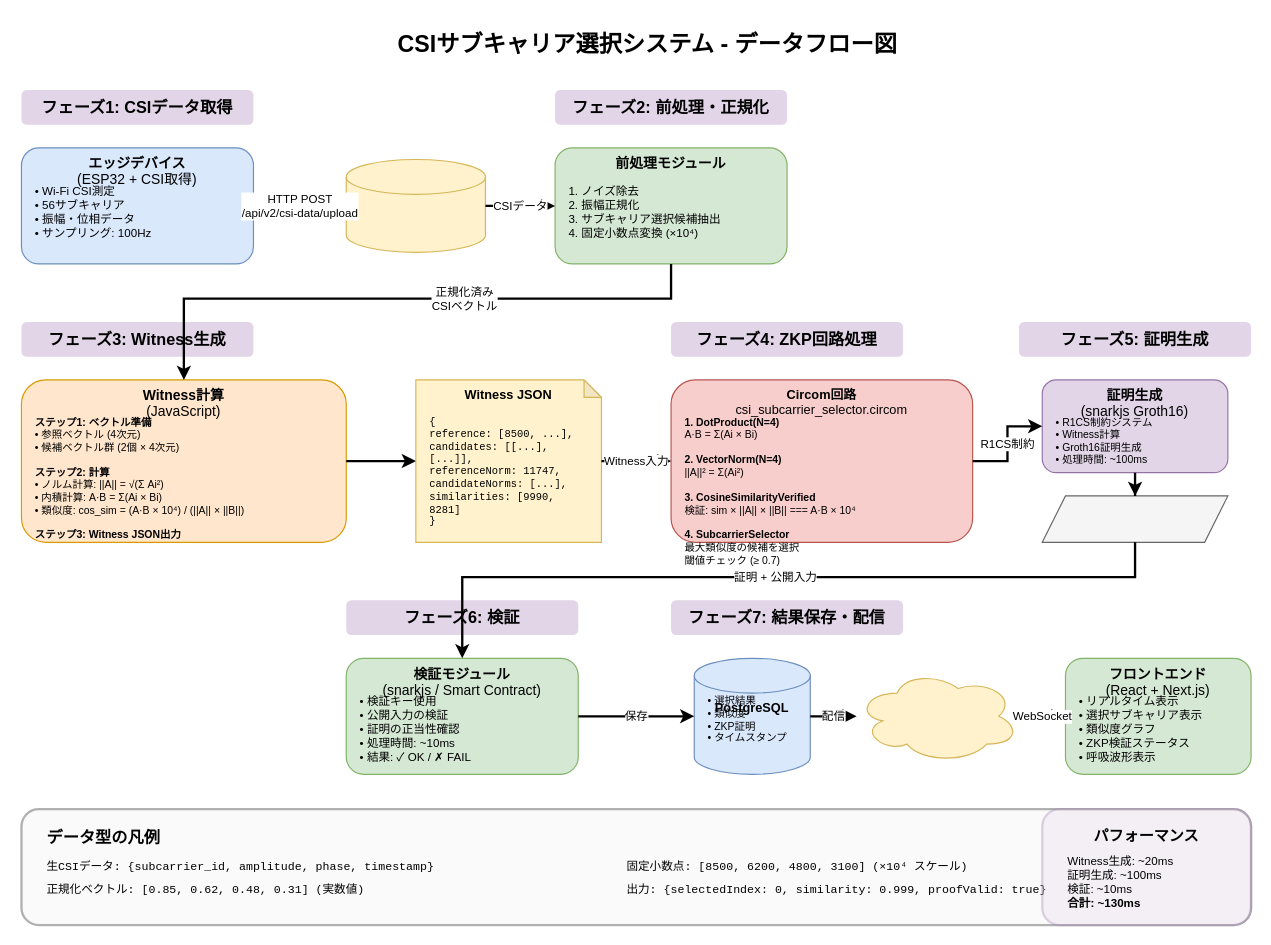
The diagram is 1271 pixels wide and 945 high, and some of its shapes have lost their labels. Here are the shapes that lost their labels. From the top down, the centre of each, then its label:
At point 415,205: "生CSIデータ JSON形式".
At point 1134,518: "証明データ proof.json".
At point 937,716: "WebSocket リアルタイム配信".
